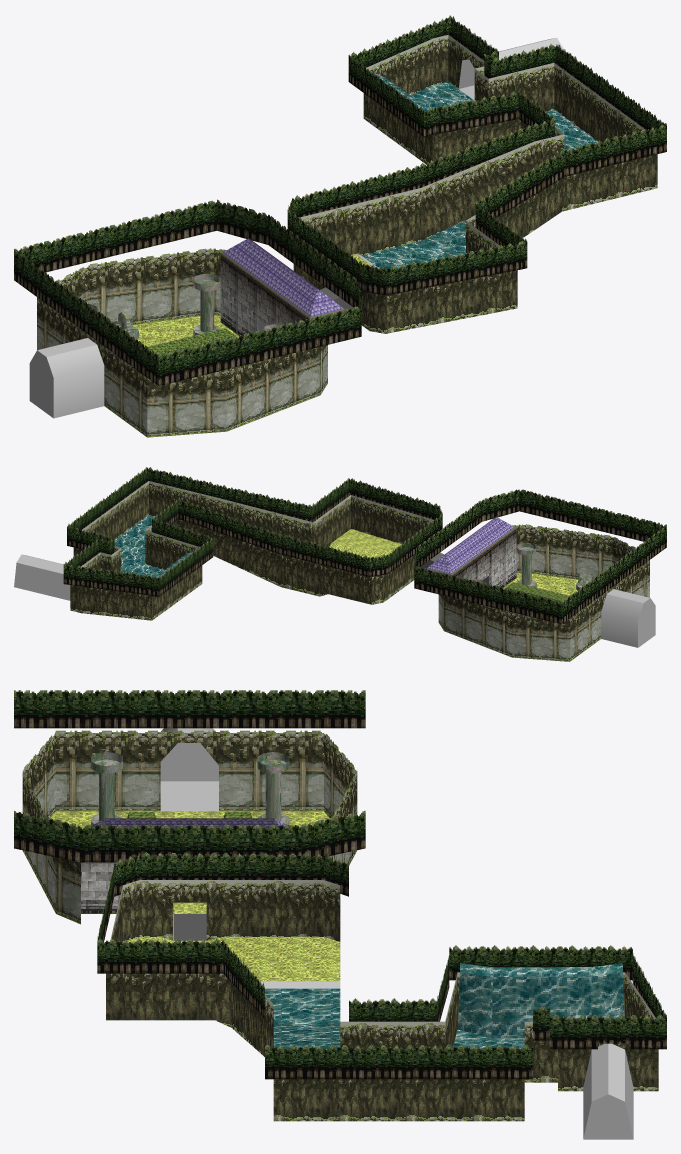
The picture shows the model from 3 angles, top to bottom: view 1: azimuth 30°, elevation 25°; view 2: azimuth 150°, elevation 25°; view 3: azimuth 270°, elevation 25°; orthographic projection. The views are drawn at different scales.
Parts seen in each view (by area): view 1: Colision Main, No Colision, Upwards Water; view 2: Colision Main, No Colision; view 3: Colision Main, No Colision, Waterfall, Upwards Water.
Part boxes in pixels (box(x1,y1,x2,y2)): Colision Main: box(29, 34, 657, 437); No Colision: box(14, 15, 666, 385); Upwards Water: box(421, 219, 467, 257); Colision Main: box(14, 481, 655, 661); No Colision: box(63, 467, 666, 624); Colision Main: box(22, 728, 658, 1139); No Colision: box(14, 690, 666, 1079); Waterfall: box(457, 963, 624, 1038); Upwards Water: box(273, 1024, 340, 1049).
Size of the model in its own units: 7376 by 1064 by 4992.
